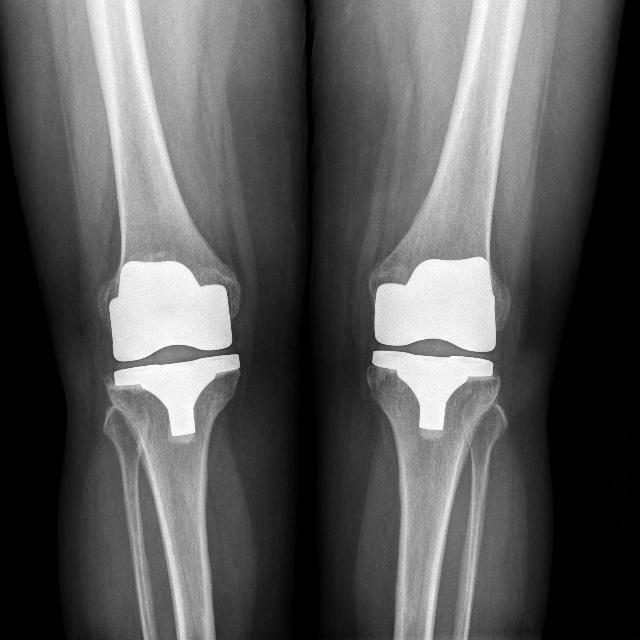Knee: (364, 249, 511, 436), (97, 252, 240, 440)
